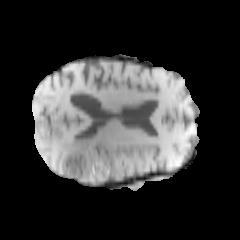glioma: (56, 132, 140, 185)
